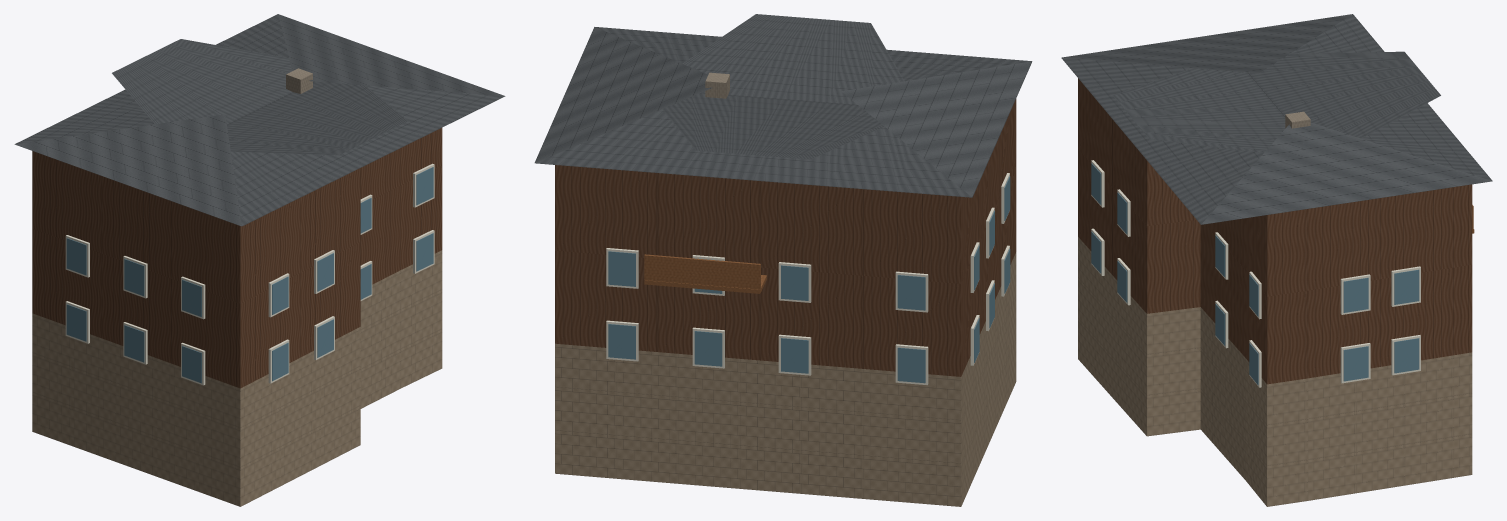
The model's file is core_0141.gltf.
3 renders of one model, left to right at view 1: azimuth 30°, elevation 25°; view 2: azimuth 150°, elevation 25°; view 3: azimuth 270°, elevation 25°, orthographic. The views are drawn at different scales.
Visible parts, largest first — view 1: core_0141; view 2: core_0141; view 3: core_0141.
Boxes of the visible parts, left/top/right/bottom form: core_0141: left=14, top=14, right=505, bottom=506; core_0141: left=534, top=14, right=1032, bottom=506; core_0141: left=1061, top=14, right=1492, bottom=506.
Bounding box in the file's own units: 18.83 × 13.55 × 16.3.
7 materials, 7 textured.
